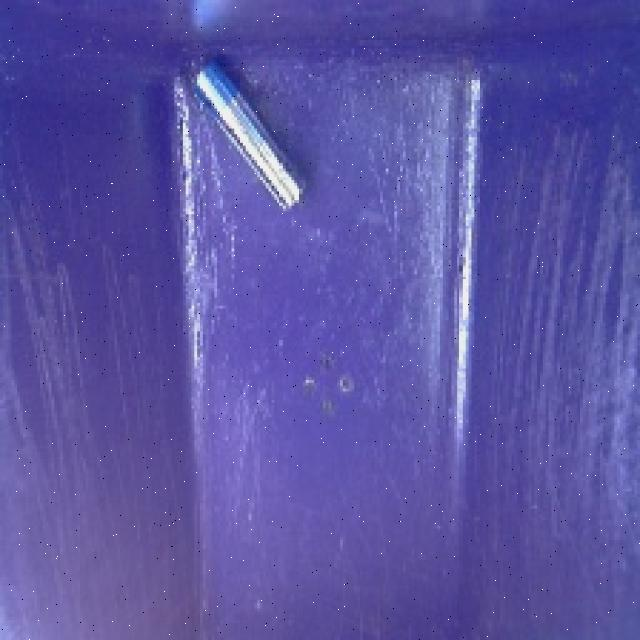battery: (186, 52, 316, 215)
